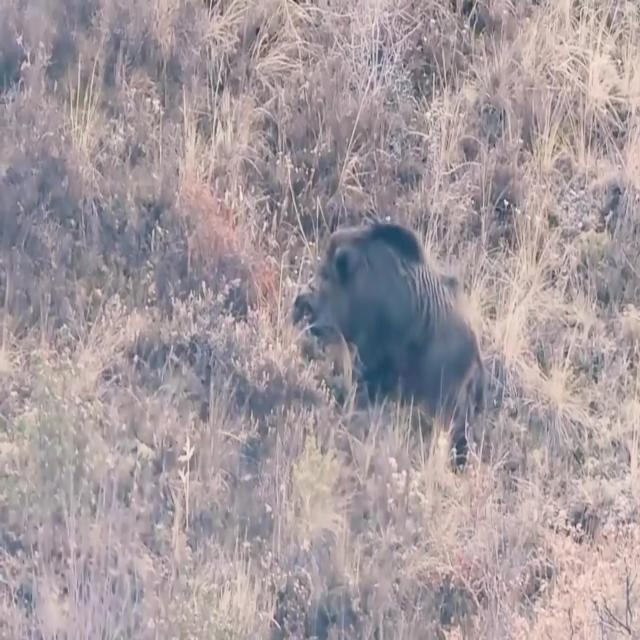pig: (289, 187, 499, 453)
